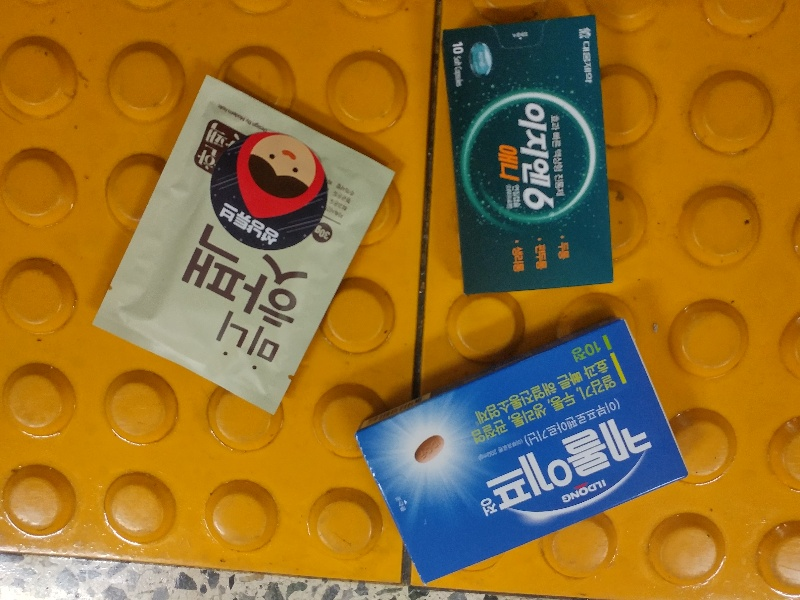carolF: (356, 319, 691, 586)
ezn: (441, 16, 616, 295)
